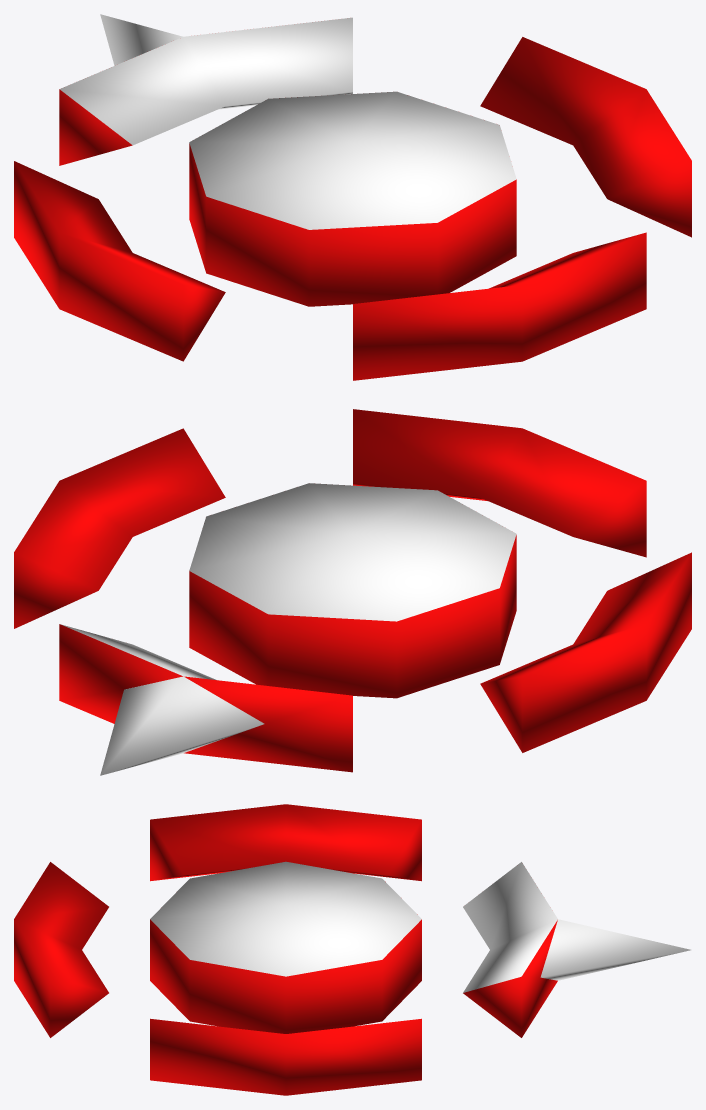
File: SPOT.glb
The picture shows the model from 3 angles, top to bottom: view 1: azimuth 30°, elevation 25°; view 2: azimuth 150°, elevation 25°; view 3: azimuth 270°, elevation 25°; orthographic projection. The views are drawn at different scales.
Parts seen in each view (by area): view 1: Mesh; view 2: Mesh; view 3: Mesh.
Boxes of the visible parts, x1=… form: Mesh: x1=14, y1=14, x2=691, y2=380; Mesh: x1=14, y1=409, x2=691, y2=775; Mesh: x1=14, y1=804, x2=690, y2=1095.
Size of the model in its own units: 0.8 by 0.1461 by 0.9968.
